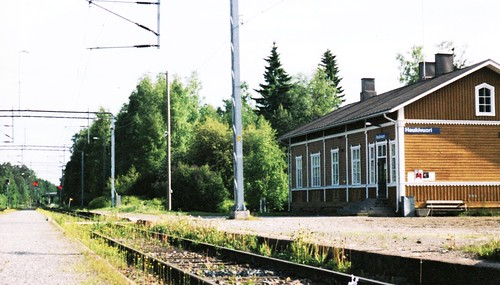building: (286, 46, 500, 211)
sky: (1, 1, 500, 95)
train track: (52, 197, 421, 285)
tree: (109, 74, 215, 203), (180, 110, 283, 224), (262, 44, 345, 128)
